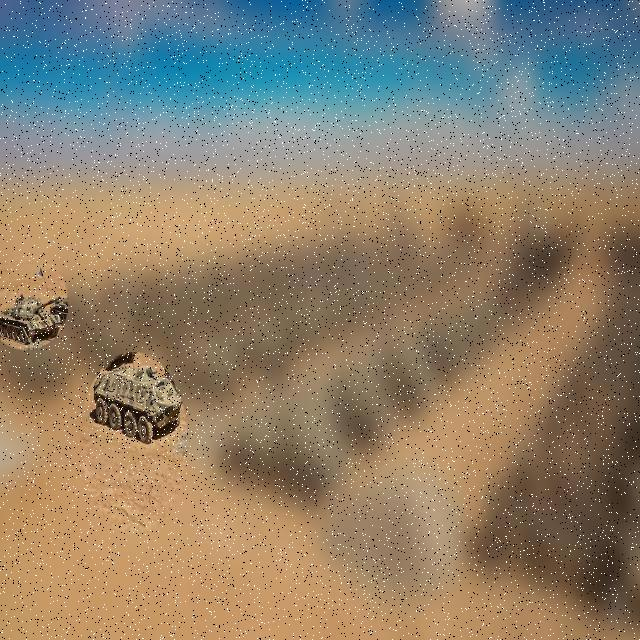MIL_MBT: (91, 362, 181, 442), (0, 288, 66, 344)
